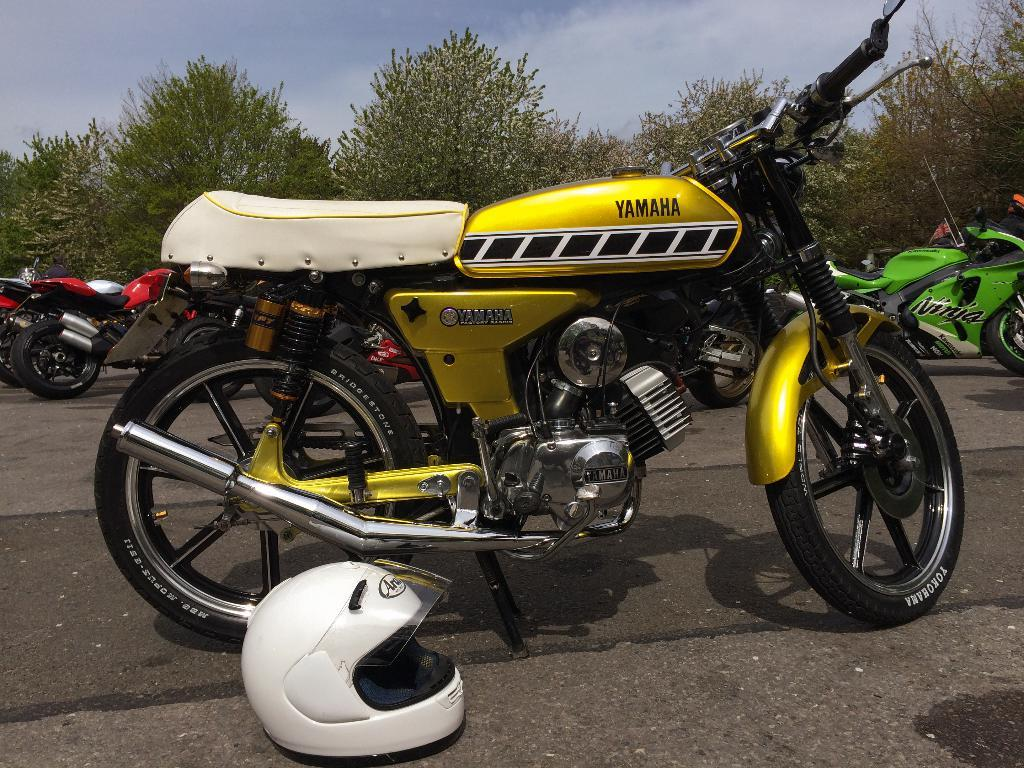helmet: (240, 561, 467, 768)
